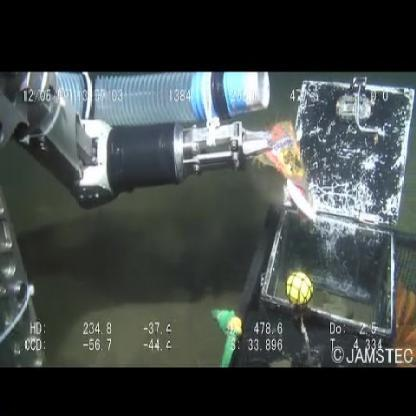Rov: (1, 74, 275, 325), (271, 75, 415, 349)
Rác: (256, 117, 318, 231)
